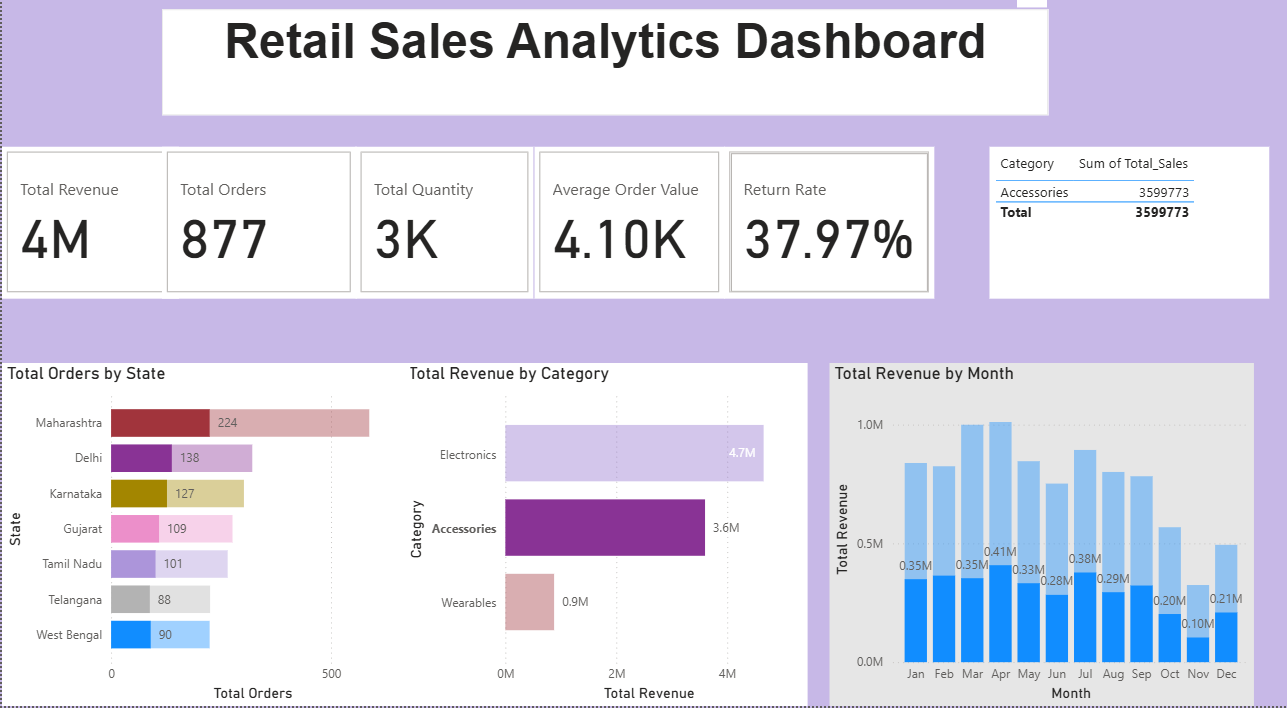

This screenshot's page, from the dashboard's own definition file:
{"tool":"powerbi","page":{"name":"Page 1","canvas":[1280,720],"ordinal":0},"visuals":[{"type":"tableEx","fields":{"Values":["Dim_Product.Category","Sum(Fact_sales.Total_Sales)"]},"box":[982.5,163.3,278.6,150.9],"z":0},{"type":"cardVisual","fields":{"Data":["Fact_sales.Total Revenue"]},"box":[0,163.3,175.6,150.9],"z":1000},{"type":"cardVisual","fields":{"Data":["Fact_sales.Total Orders"]},"box":[159.2,163.3,193.5,150.9],"z":2000},{"type":"cardVisual","fields":{"Data":["Fact_sales.Total Quantity"]},"box":[352.7,163.3,177,150.9],"z":3000},{"type":"cardVisual","fields":{"Data":["Fact_sales.Average Order Value"]},"box":[529.7,163.3,189.4,150.9],"z":4000},{"type":"cardVisual","fields":{"Data":["Fact_sales.Return Rate"]},"box":[719,163.3,208.6,150.9],"z":5000},{"type":"clusteredBarChart","fields":{"Category":["Dim_Product.Category"],"Y":["Fact_sales.Total Revenue"]},"box":[399.3,378.7,402.1,341.7],"z":6000},{"type":"clusteredBarChart","fields":{"Category":["Dim_Customer.State"],"Y":["Fact_sales.Total Orders"]},"box":[0,378.7,406.2,341.7],"z":7000},{"type":"columnChart","fields":{"Category":["Dim_Date.Month"],"Y":["Fact_sales.Total Revenue"]},"box":[823.3,378.7,422.6,341.7],"z":8000},{"type":"textbox","box":[159.2,26.1,882.3,105.7],"z":9000}]}

Visuals, with their boxes in screenshot pixels (x1, y1, x2, y2), scaled from the page's 1280x720 canvas onto the 1287x708 screenshot:
tableEx - Dim_Product.Category x Sum(Fact_sales.Total_Sales): locate(988, 161, 1268, 309)
cardVisual - Fact_sales.Total Revenue: locate(0, 161, 177, 309)
cardVisual - Fact_sales.Total Orders: locate(160, 161, 355, 309)
cardVisual - Fact_sales.Total Quantity: locate(355, 161, 533, 309)
cardVisual - Fact_sales.Average Order Value: locate(533, 161, 723, 309)
cardVisual - Fact_sales.Return Rate: locate(723, 161, 933, 309)
clusteredBarChart - Dim_Product.Category x Fact_sales.Total Revenue: locate(401, 372, 806, 707)
clusteredBarChart - Dim_Customer.State x Fact_sales.Total Orders: locate(0, 372, 408, 707)
columnChart - Dim_Date.Month x Fact_sales.Total Revenue: locate(828, 372, 1253, 707)
textbox: locate(160, 26, 1047, 130)
